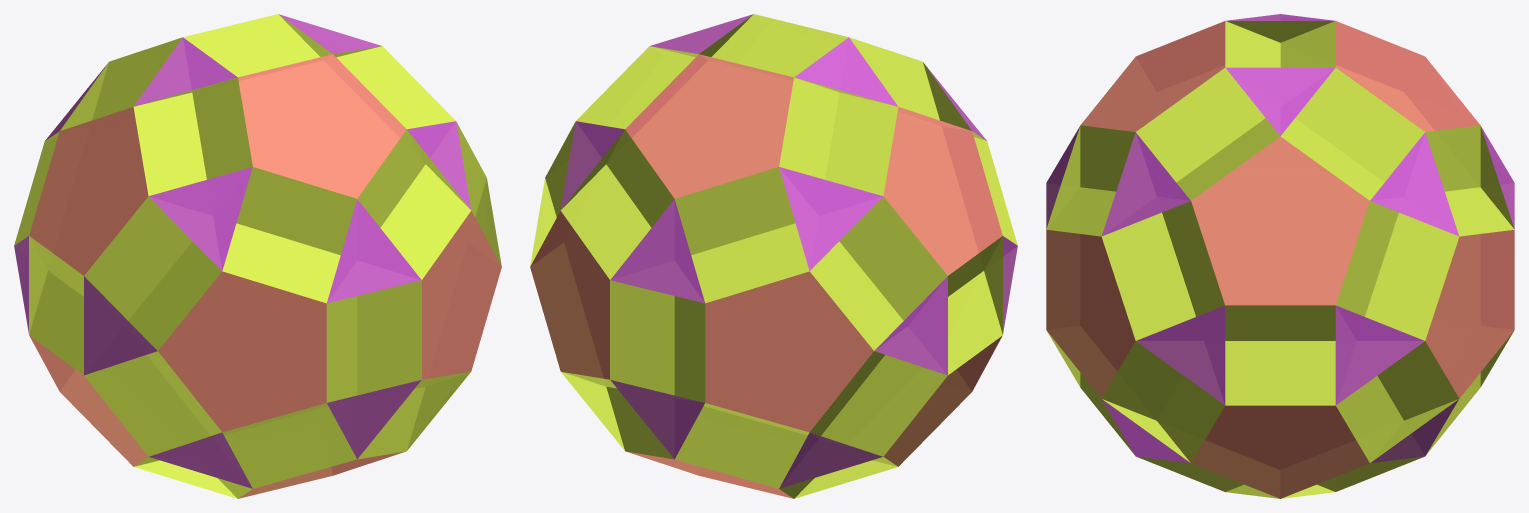
The model's file is SmallDodecicosidodecahedron.obj.
3 renders of one model, left to right at view 1: azimuth 30°, elevation 25°; view 2: azimuth 150°, elevation 25°; view 3: azimuth 270°, elevation 25°, orthographic.
Size of the model in its own units: 4.24 by 4.24 by 4.24.
